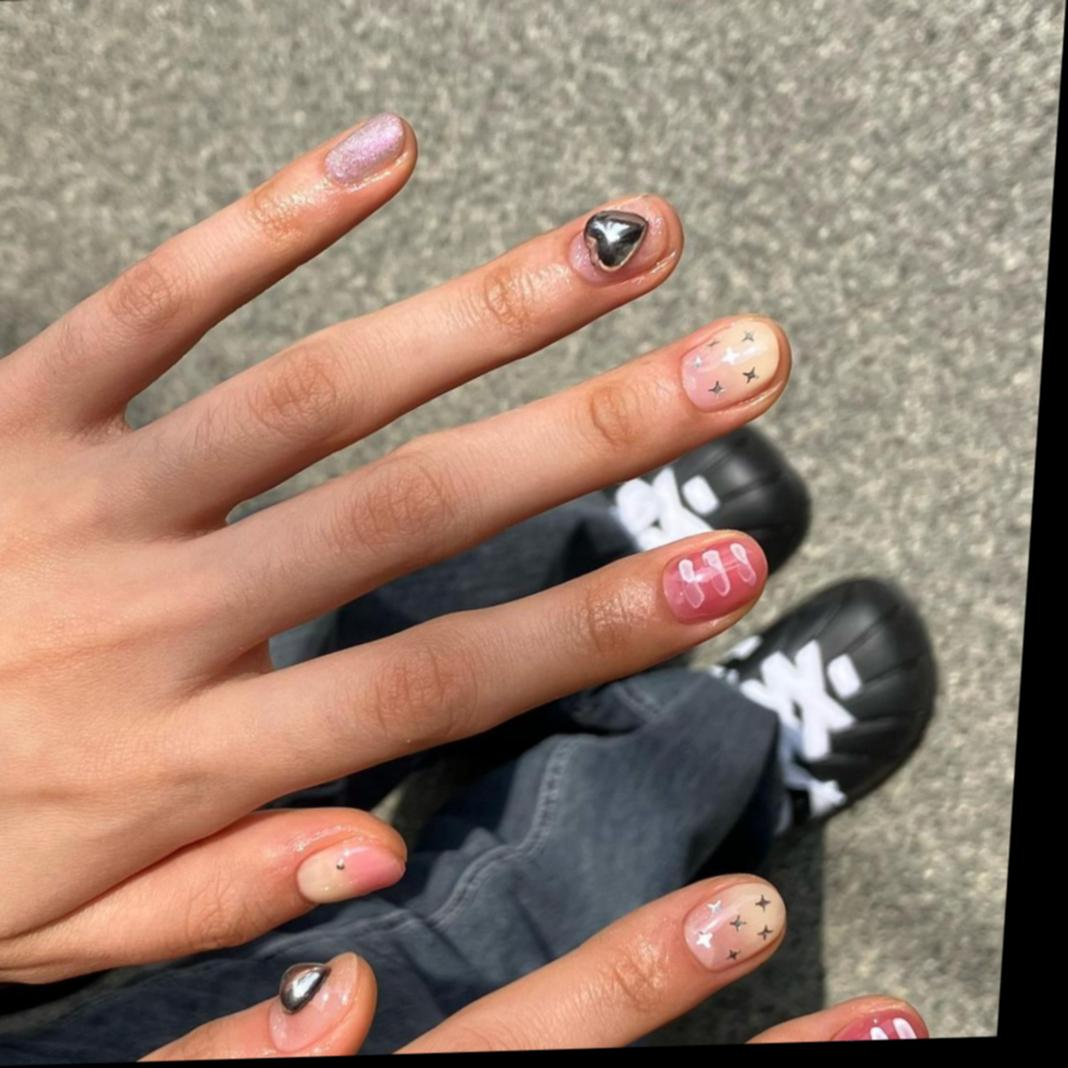nail: (674, 313, 794, 415), (656, 534, 771, 626), (678, 880, 790, 974), (270, 955, 361, 1051), (570, 197, 670, 283), (291, 835, 408, 906), (319, 111, 412, 191), (827, 1009, 931, 1041)
